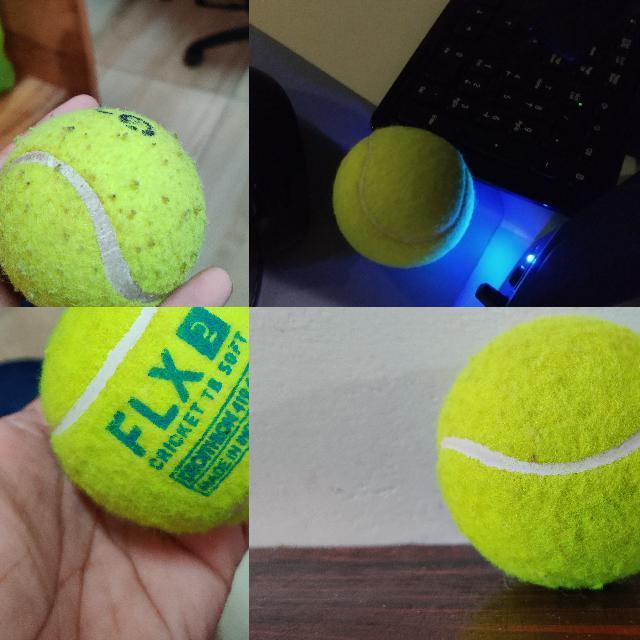tennis-ball: (435, 312, 639, 590), (40, 307, 248, 532), (0, 106, 208, 306), (332, 124, 475, 268)
